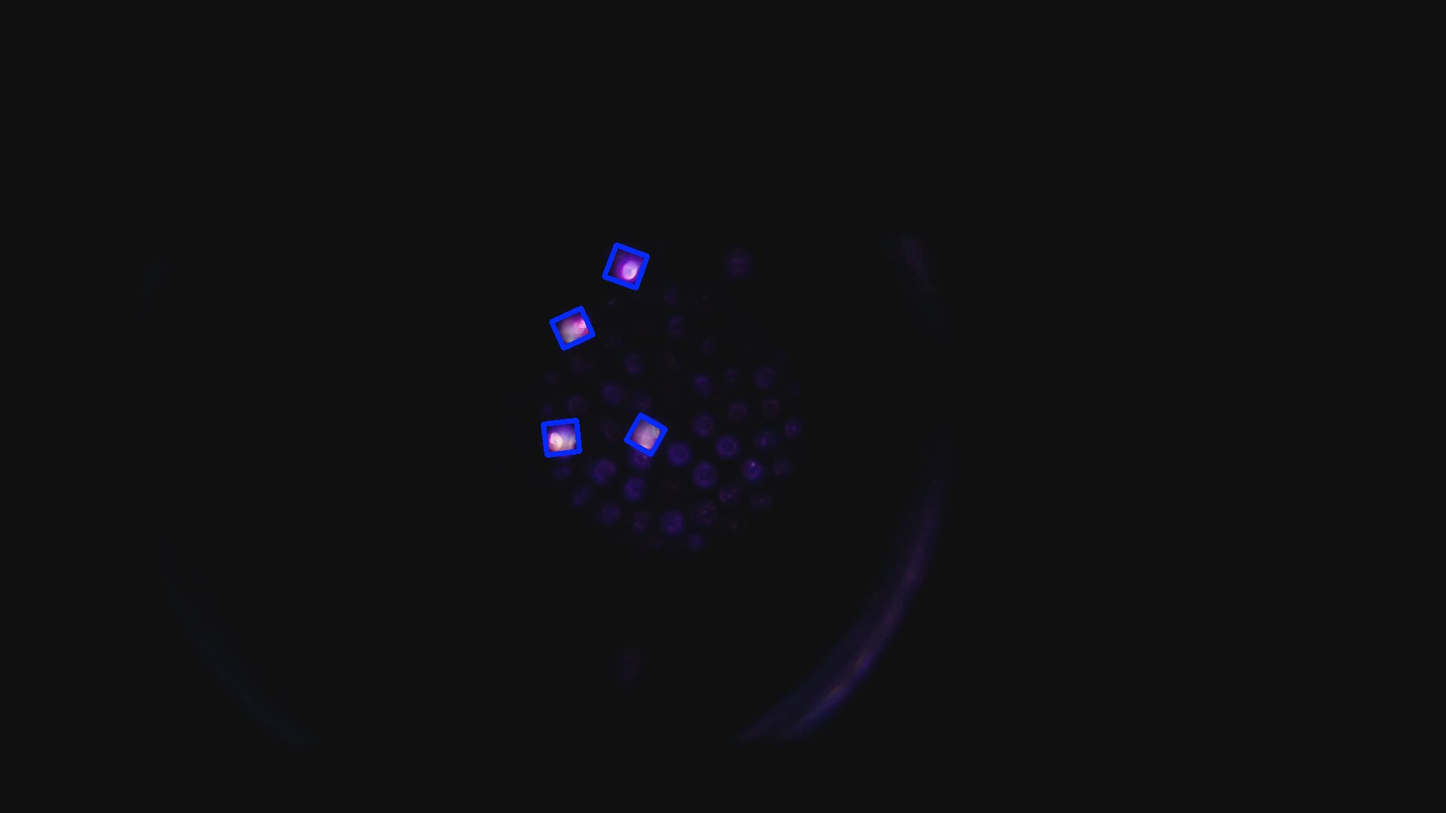plastic: (608, 248, 644, 285), (556, 311, 590, 345), (630, 419, 662, 451), (546, 423, 577, 452)
